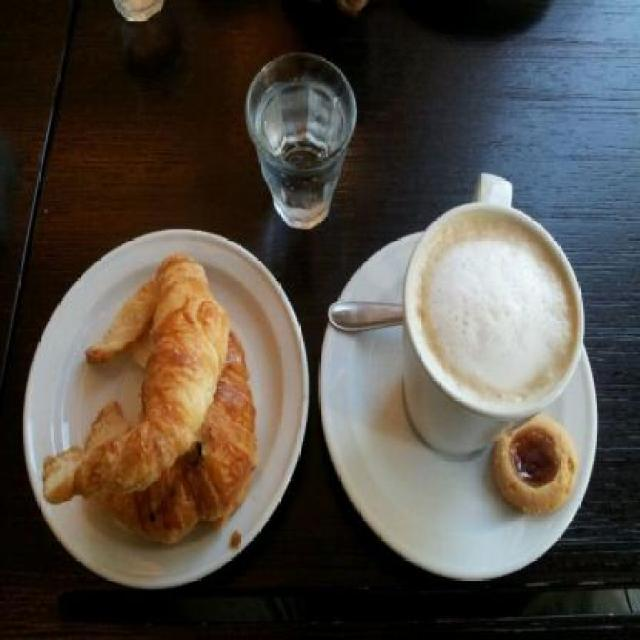Croissant: (43, 253, 229, 504), (82, 315, 260, 543)
